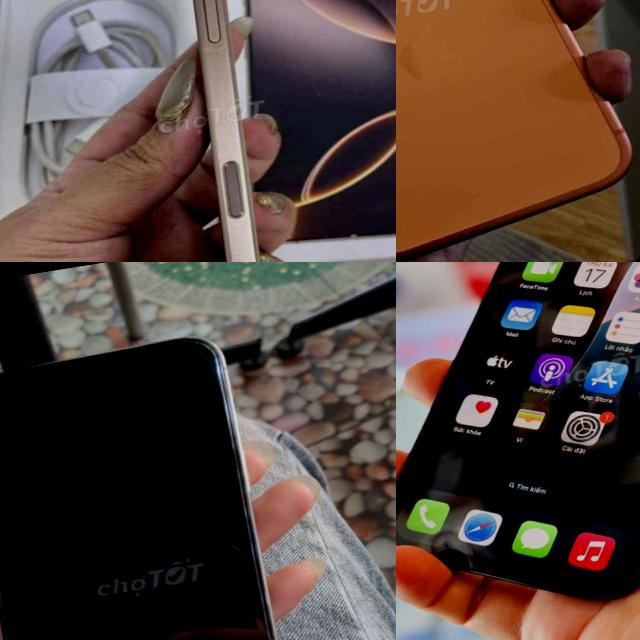scratch: (265, 635, 278, 640)
